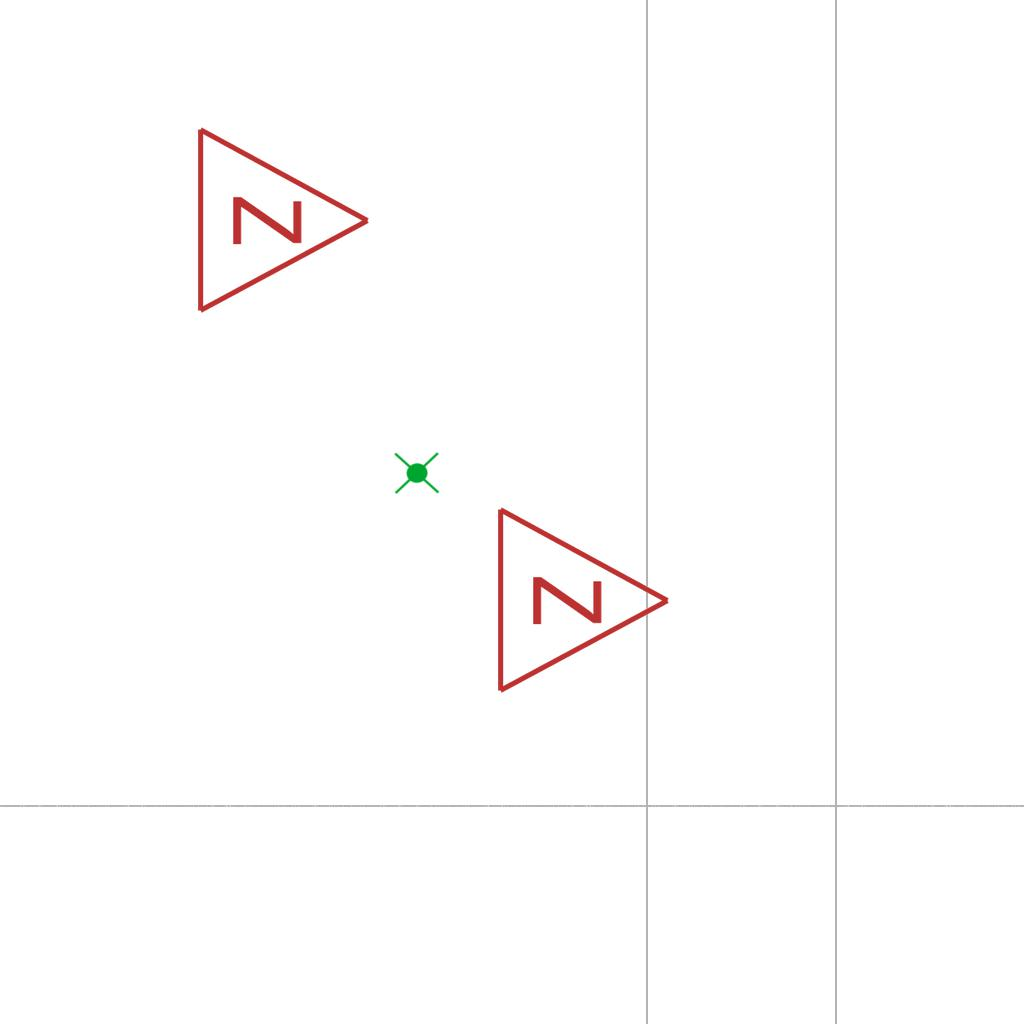Notlichtbaustein_in_Allgemeinbeleuchtug_engebaut_Einbau_(1UG_und_2UG_Aufbauvaria: (392, 447, 442, 498)
Zimmersignalleuchte: (183, 120, 383, 316), (483, 500, 683, 696)
